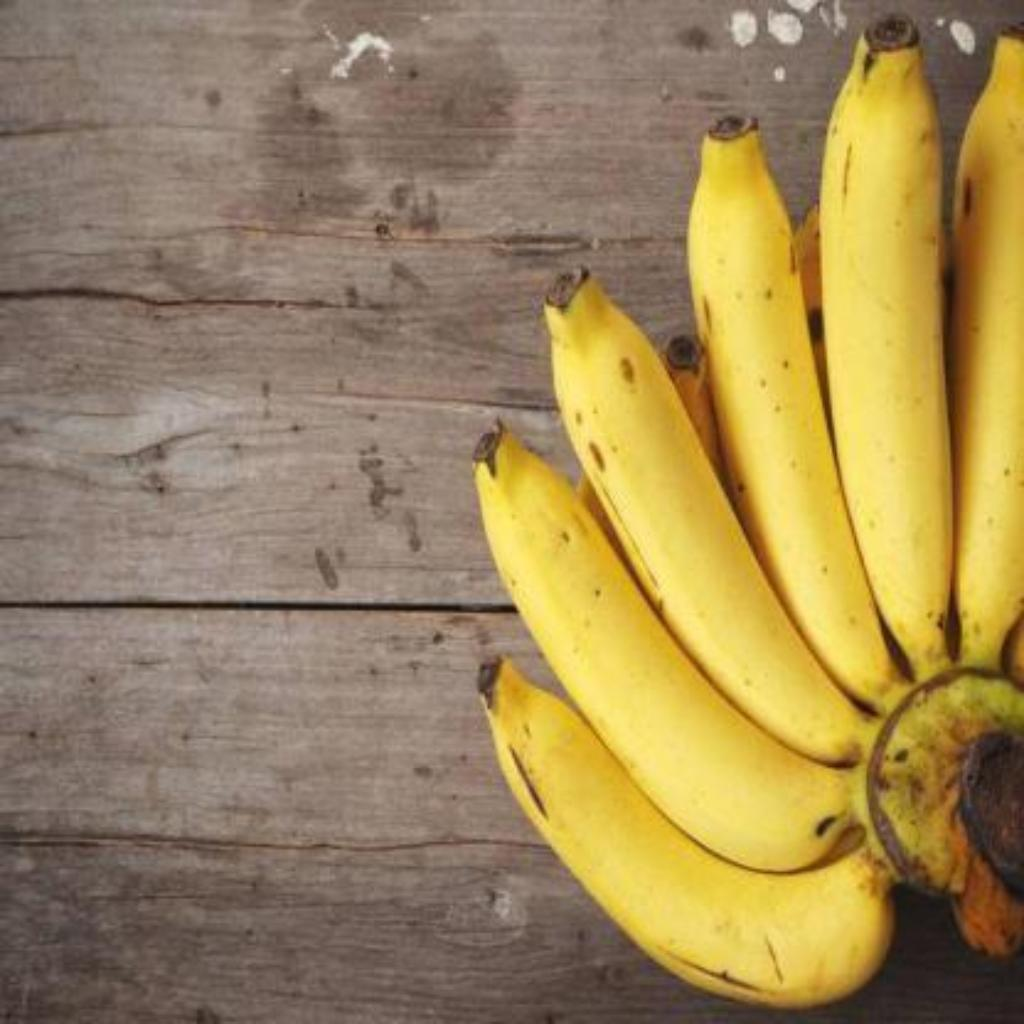banana: (473, 431, 898, 1012), (542, 273, 859, 766), (684, 113, 898, 702), (817, 15, 958, 665)
